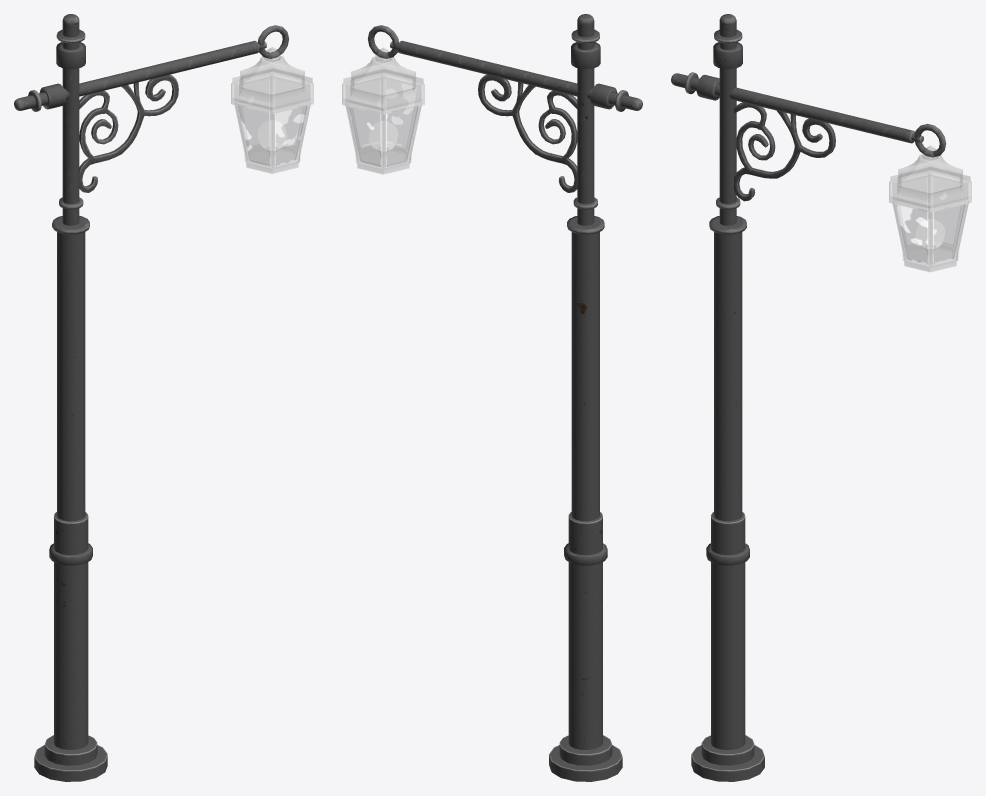
Rendered from single_lamp.gltf.
3 views of the same model, side by side, from view 1: azimuth 30°, elevation 25°; view 2: azimuth 150°, elevation 25°; view 3: azimuth 330°, elevation 25° (orthographic).
Visible parts, largest first — view 1: pole_single_02, glass_lamp02_0.002, case_top_lamp02_0.002, case_bottom_lamp02_0.002, bulb_lamp02_0.002; view 2: pole_single_02, glass_lamp02_0.002, case_top_lamp02_0.002, case_bottom_lamp02_0.002, bulb_lamp02_0.002; view 3: pole_single_02, glass_lamp02_0.002, case_top_lamp02_0.002, case_bottom_lamp02_0.002, bulb_lamp02_0.002.
Boxes of the visible parts, <box> form: pole_single_02: <box>14,14,288,781</box>; glass_lamp02_0.002: <box>234,73,310,166</box>; case_top_lamp02_0.002: <box>231,47,313,113</box>; case_bottom_lamp02_0.002: <box>245,144,299,173</box>; bulb_lamp02_0.002: <box>258,120,286,156</box>; pole_single_02: <box>368,14,642,781</box>; glass_lamp02_0.002: <box>345,73,421,167</box>; case_top_lamp02_0.002: <box>342,47,424,114</box>; case_bottom_lamp02_0.002: <box>356,145,410,174</box>; bulb_lamp02_0.002: <box>369,121,397,156</box>; pole_single_02: <box>671,14,946,781</box>; glass_lamp02_0.002: <box>892,171,968,265</box>; case_top_lamp02_0.002: <box>889,145,971,212</box>; case_bottom_lamp02_0.002: <box>903,243,957,271</box>; bulb_lamp02_0.002: <box>916,219,944,254</box>.
Size of the model in its own units: 1.14 by 2.72 by 0.2723.
